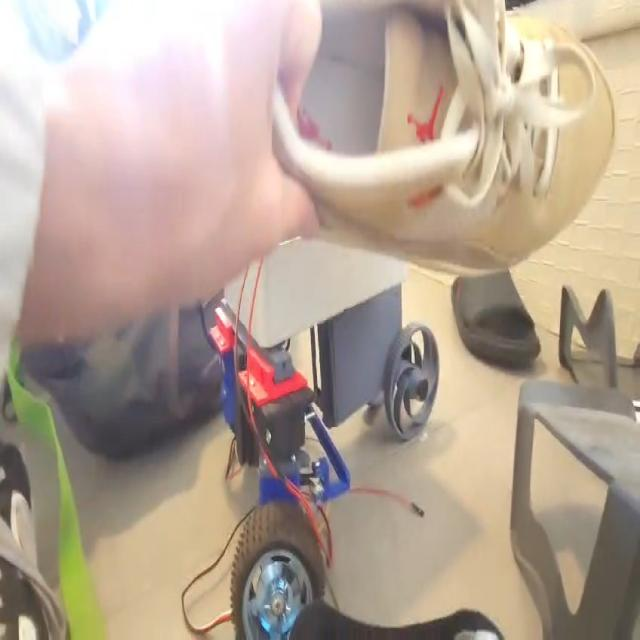Robot: (211, 236, 438, 638)
